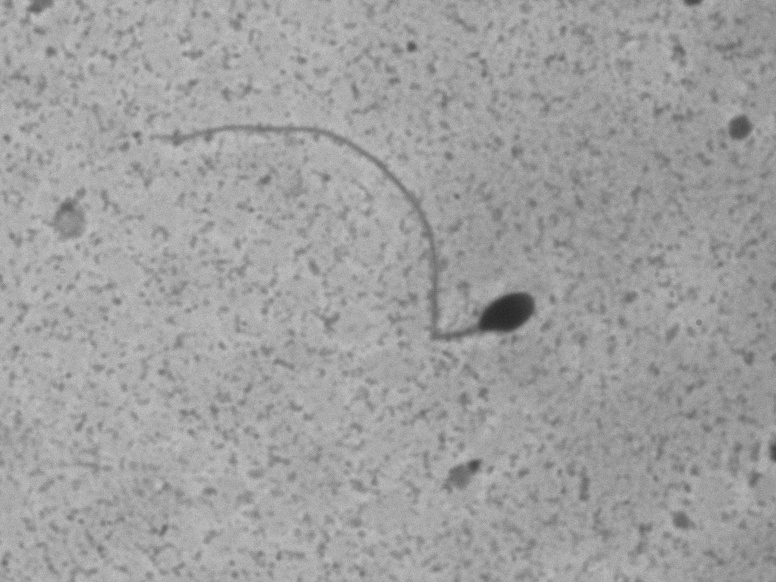Abnormal: (139, 103, 578, 370)
